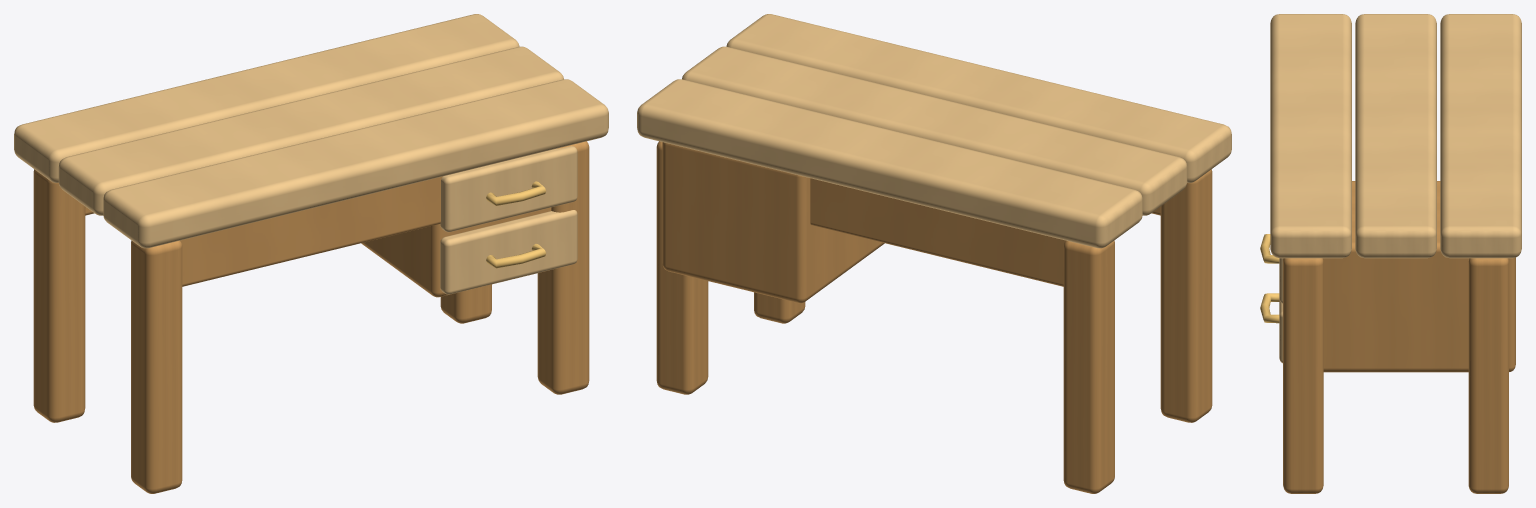
Rendered from DESK.glb.
The picture shows the model from 3 angles, left to right: view 1: azimuth 30°, elevation 25°; view 2: azimuth 150°, elevation 25°; view 3: azimuth 270°, elevation 25°; orthographic projection. The views are drawn at different scales.
Visible parts, largest first — view 1: DESK; view 2: DESK; view 3: DESK.
Part boxes in pixels (<box>): DESK: <box>14,14,608,493</box>; DESK: <box>637,14,1231,493</box>; DESK: <box>1260,14,1521,493</box>.
Size of the model in its own units: 1.34 by 0.78 by 0.6775.
3 materials, 2 textured.
